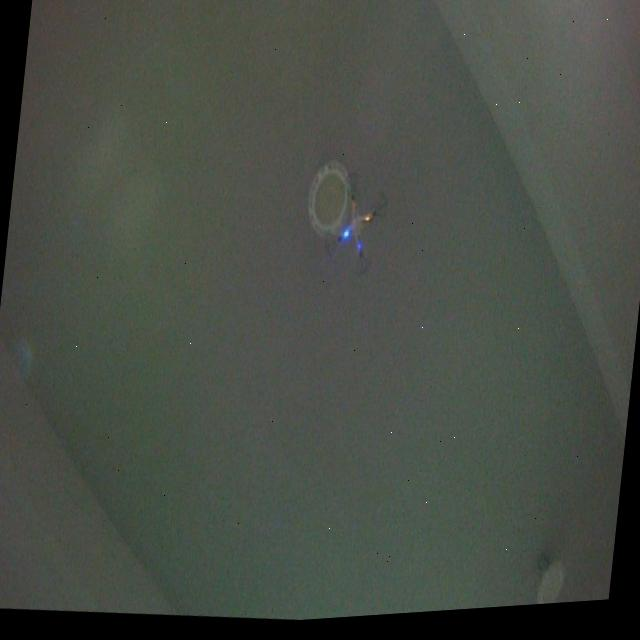drone: (322, 168, 393, 287)
